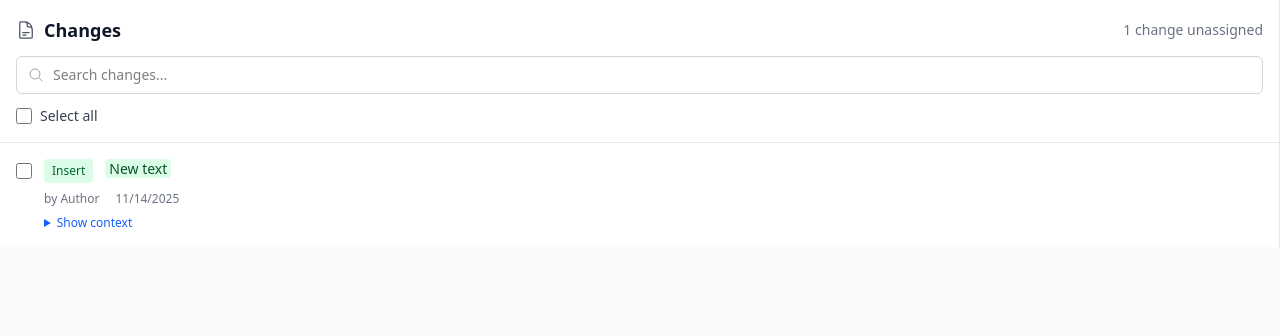
it: ChangeListPanel › Context Window › displays context window when expanded
Click the heading "Show context": (94, 222) [57,214,132,231]
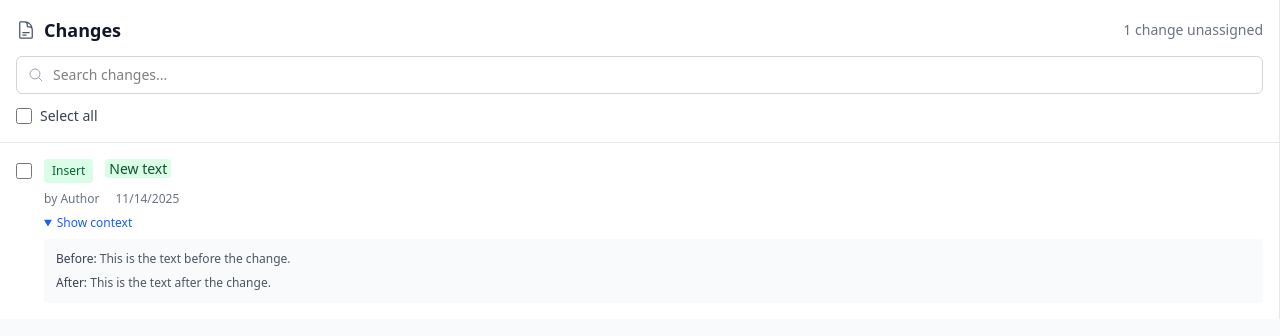
Expected: the text "Before:" is shown, [56,250,100,267]
Expected: the text "This is the text before the change." is shown, [100,250,291,267]
Expected: the text "After:" is shown, [56,274,90,291]
